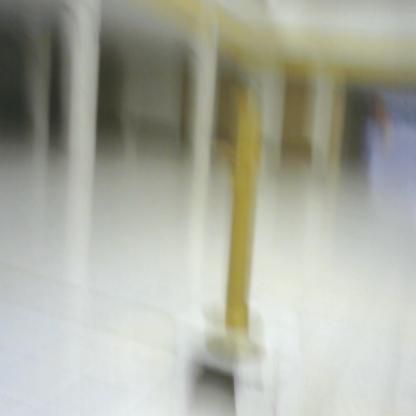pole: (199, 92, 277, 354)
